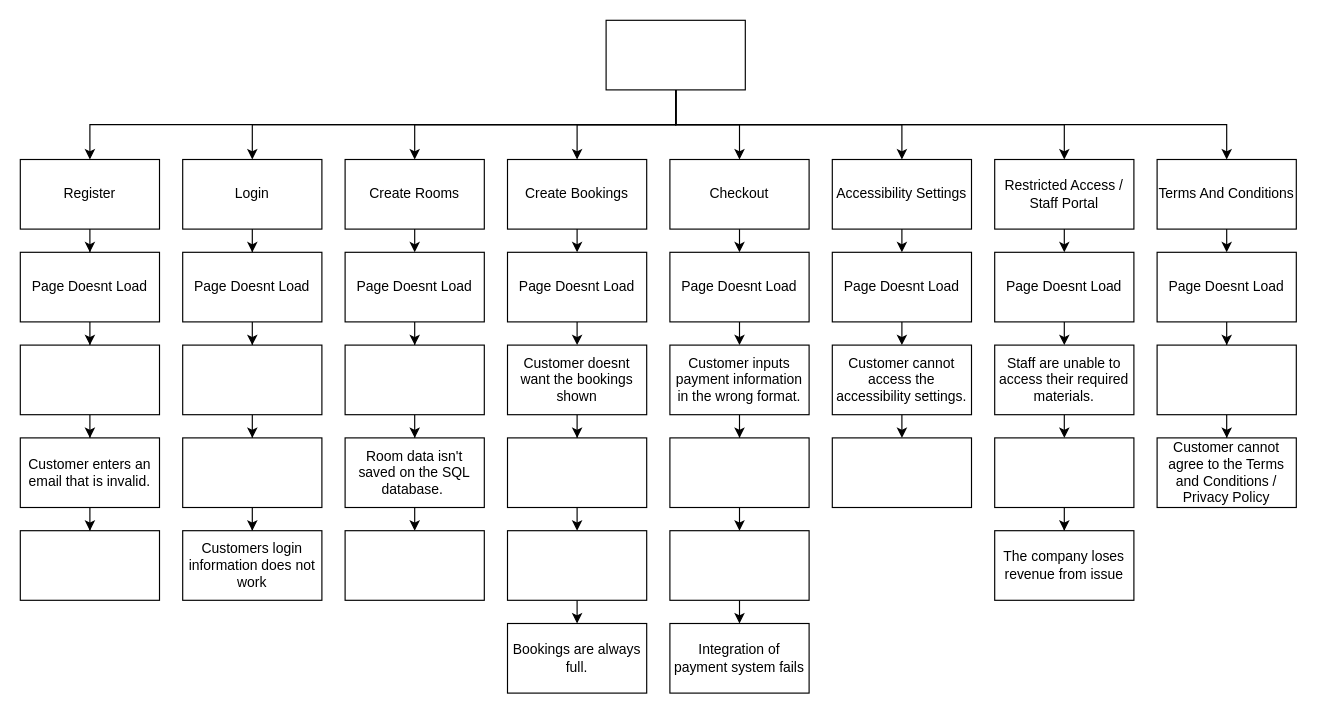
The diagram is 1317 pixels wide and 713 high, and some of its shapes have lost their labels. Here are the shapes that lost their labels. From the top down, the box of each, then its label:
(605, 19, 745, 90): CityPoint Room Hire
(19, 344, 160, 415): Customer enters a weak password
(182, 344, 322, 415): Customer forgets their password
(344, 344, 484, 415): Manager cannot create rooms for customers
(1156, 344, 1296, 415): Information on the terms and conditions isn't accurate.
(182, 437, 322, 507): Customer Inputs the wrong Information
(506, 437, 647, 507): Customer does not know what to choose
(669, 437, 809, 507): Items fail to show up in the checkout page
(831, 437, 971, 507): Customer preferences are not saved to the user account
(994, 437, 1134, 507): Staff are unable to fulfill their responsibilities
(19, 530, 160, 600): Customer data isnt saved on the SQL database.
(344, 530, 484, 600): Lost revenue from issue
(506, 530, 647, 600): Customer's booking isn't saved to the database.
(669, 530, 809, 600): Incorrect calculation for final price
